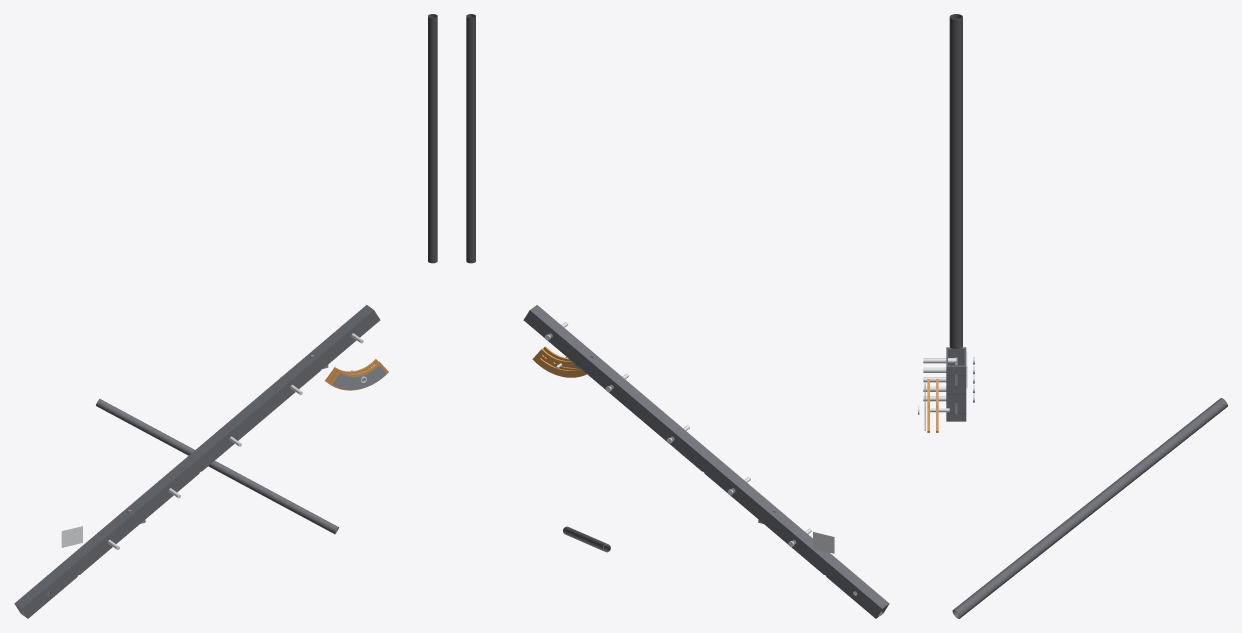
The model's file is str_A0.glb.
The picture shows the model from 3 angles, left to right: view 1: azimuth 30°, elevation 25°; view 2: azimuth 150°, elevation 25°; view 3: azimuth 270°, elevation 25°; orthographic projection. The views are drawn at different scales.
Visible parts, largest first — view 1: =>[0:1:1:4], =>[0:1:1:33], =>[0:1:1:41], =>[0:1:1:13]; view 2: =>[0:1:1:4], =>[0:1:1:33], =>[0:1:1:7]; view 3: =>[0:1:1:33], =>[0:1:1:41], =>[0:1:1:4].
Boxes of the visible parts, x1,y1,x2,y2 form: =>[0:1:1:4]: [14, 305, 380, 618]; =>[0:1:1:33]: [428, 14, 437, 263]; =>[0:1:1:41]: [96, 398, 338, 534]; =>[0:1:1:13]: [333, 365, 386, 389]; =>[0:1:1:4]: [523, 305, 889, 618]; =>[0:1:1:33]: [466, 14, 475, 263]; =>[0:1:1:7]: [532, 348, 586, 377]; =>[0:1:1:33]: [949, 14, 962, 349]; =>[0:1:1:41]: [952, 398, 1227, 618]; =>[0:1:1:4]: [946, 347, 966, 421].
Bounding box in the file's own units: 1.97 × 2.25 × 0.9376.
